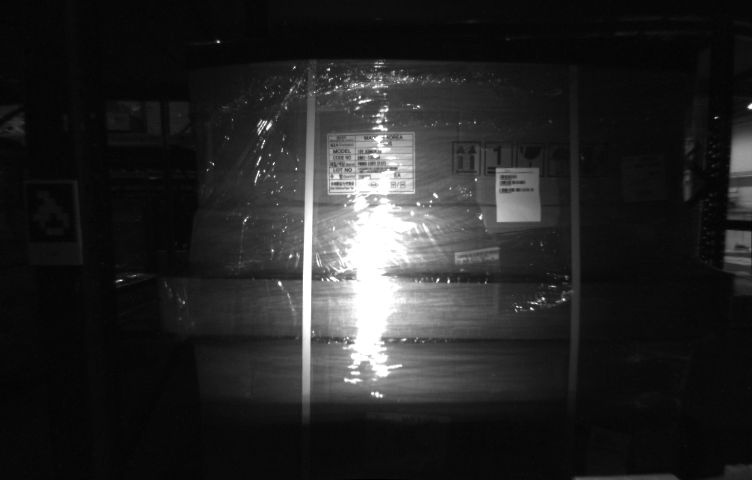True Barcode: (621, 153, 668, 205)
